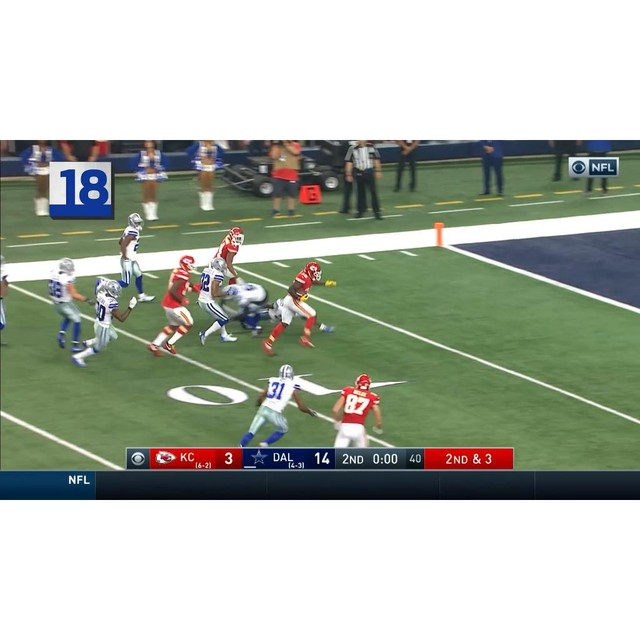american-football-player: (71, 280, 134, 366), (240, 364, 305, 447), (262, 263, 320, 355), (147, 254, 198, 357), (332, 373, 383, 451), (46, 259, 89, 351), (196, 258, 238, 345), (111, 214, 151, 302), (222, 279, 275, 336), (212, 228, 245, 284)
referee: (344, 141, 387, 223)
